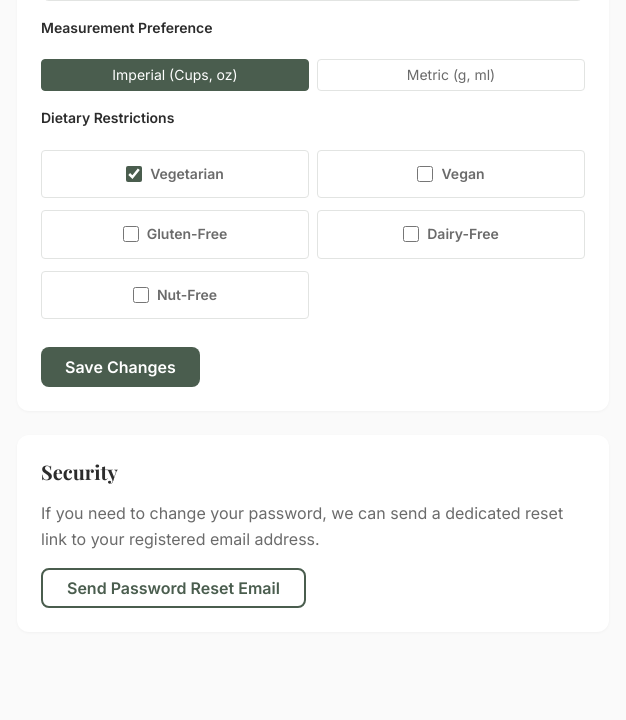
Scenario: Settings Page › handles error during password reset
This screenshot has width=626, height=720.
(page scrolled)
Click the button "Send Password Reset Email" at (173, 588), box [41,568,306,608]
(page scrolled)
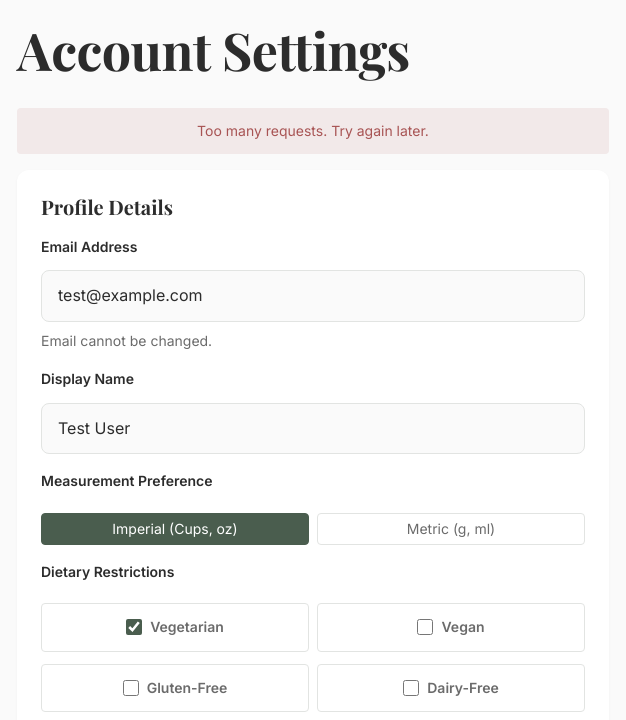
Check: the text "Too many requests. Try again later." is shown, box [17,108,609,154]
